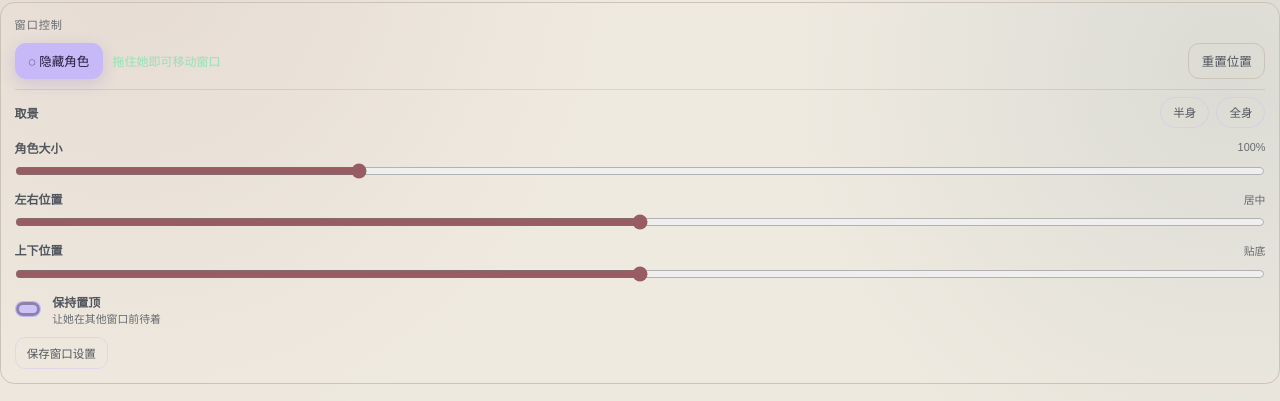
Test: P3A-25 Live2dPreviewControls › 左右/上下滑块按 -100..100 发出取景偏移，预设按钮一次切半身或全身
Set the slider labelled "左右位置 居中" to "-30" at (455, 222), box [15,214,1265,230]
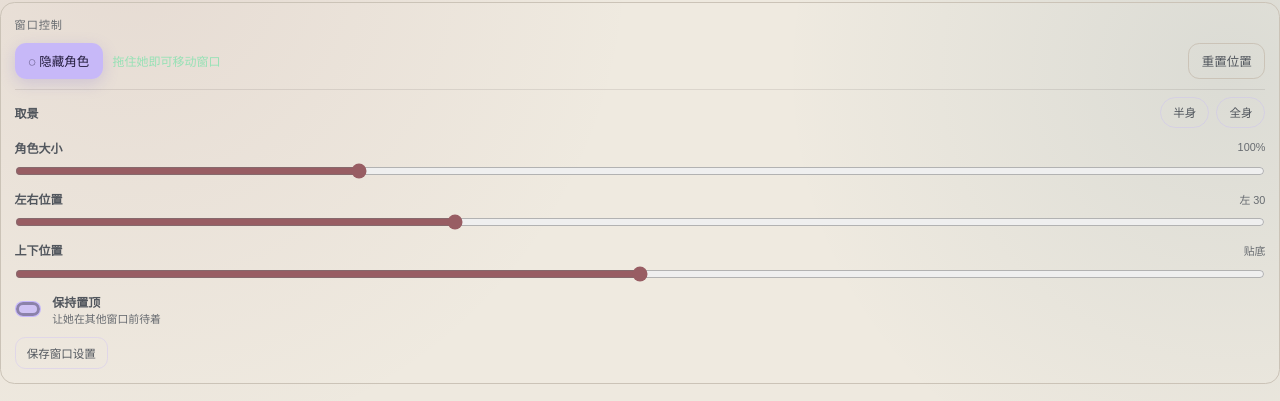
Set the slider labelled "上下位置 贴底" to "45" at (918, 274), box [15,266,1265,282]
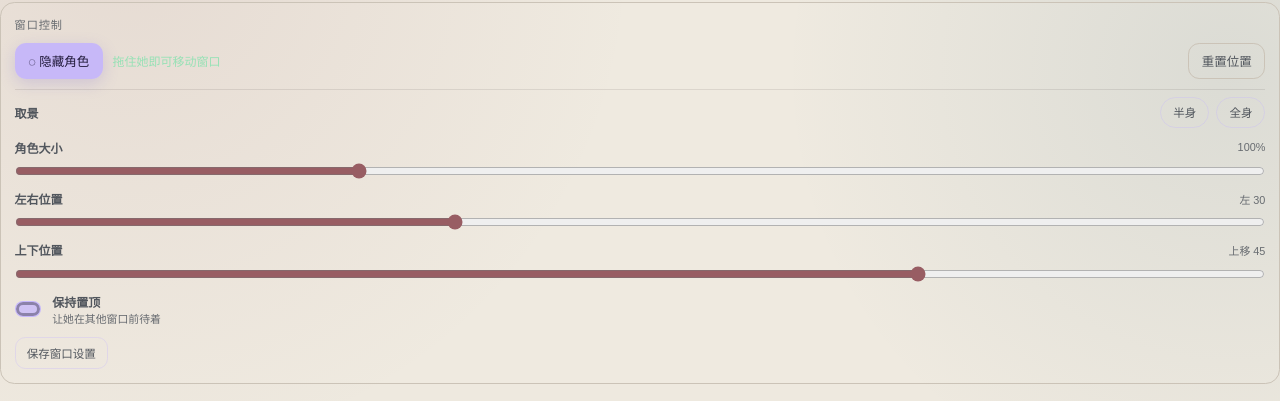
Click the button with class "framing__preset" showing "全身" at (1241, 112), box [1216,97,1265,128]
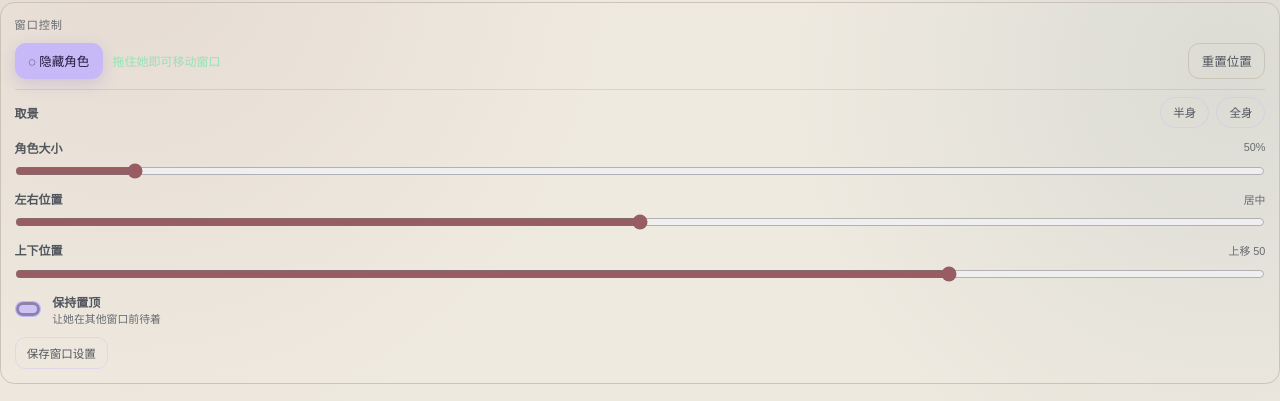
Expected: the slider labelled "上下位置 上移 50" holds "50", [15,266,1265,282]
